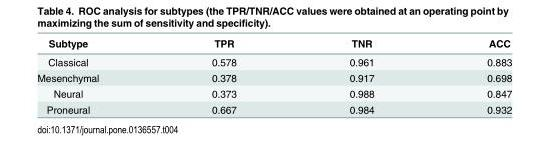table: (36, 36, 511, 114)
table column: (154, 36, 292, 114), (292, 36, 429, 114), (36, 36, 154, 114), (429, 36, 511, 114)
table column header: (36, 36, 511, 52)
table row: (36, 52, 511, 69), (36, 36, 511, 52), (36, 69, 511, 85), (36, 85, 511, 101), (36, 101, 511, 114)
